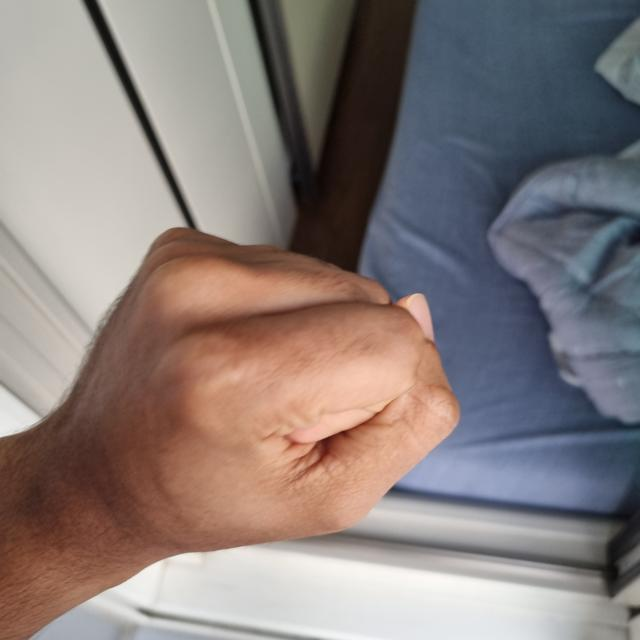Rock: (55, 165, 634, 556)
